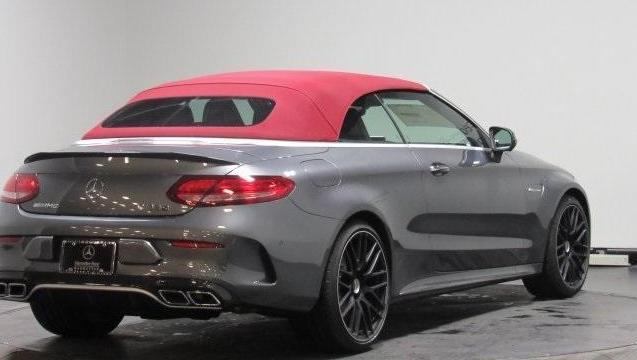C63AMG: (2, 63, 596, 353)
